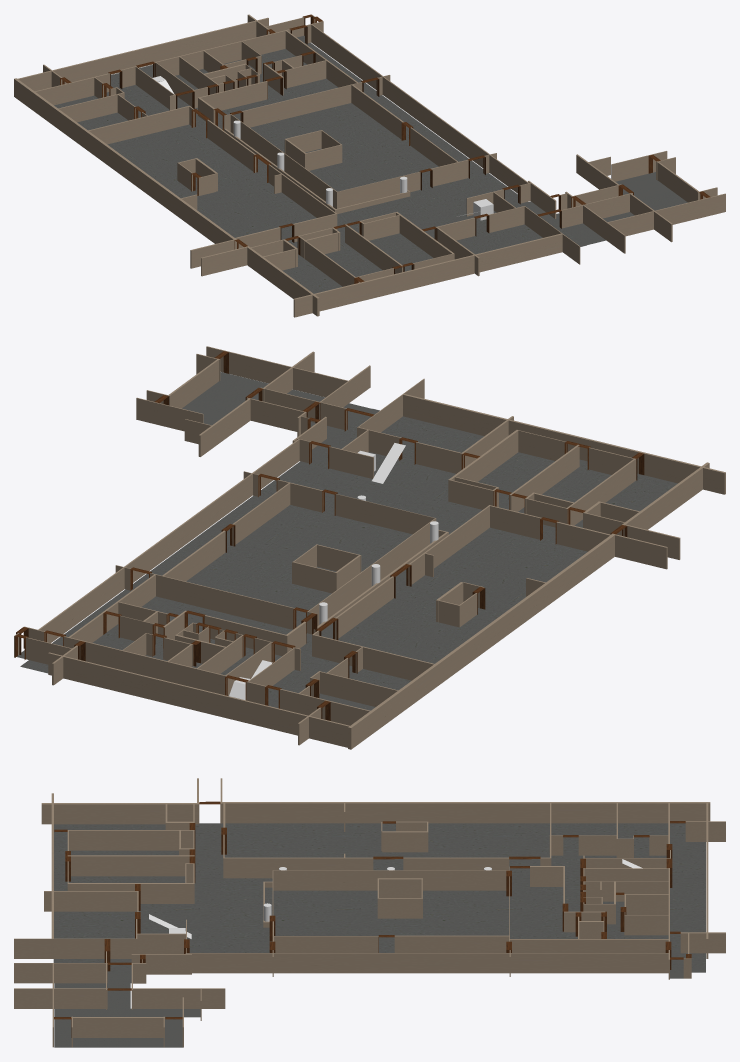
The model's file is first.glb.
3 views of the same model, one above another, from view 1: azimuth 30°, elevation 25°; view 2: azimuth 150°, elevation 25°; view 3: azimuth 270°, elevation 25° (orthographic). The views are drawn at different scales.
Visible parts, largest first — view 1: Walls.001, Floor.001, Doors.001, Pillars; view 2: Walls.001, Floor.001, Doors.001; view 3: Walls.001, Floor.001, Doors.001.
Part boxes in pixels (bbox=[...]): Walls.001: bbox=[14, 14, 725, 317]; Floor.001: bbox=[54, 35, 687, 293]; Doors.001: bbox=[60, 14, 710, 283]; Pillars: bbox=[233, 120, 407, 206]; Walls.001: bbox=[14, 346, 725, 749]; Floor.001: bbox=[17, 372, 677, 710]; Doors.001: bbox=[15, 351, 644, 720]; Walls.001: bbox=[14, 778, 725, 1047]; Floor.001: bbox=[53, 823, 705, 1047]; Doors.001: bbox=[54, 801, 691, 1037].
Size of the model in its own units: 53.43 by 2.98 by 64.52.
Materials: 3 (3 with a texture image).
